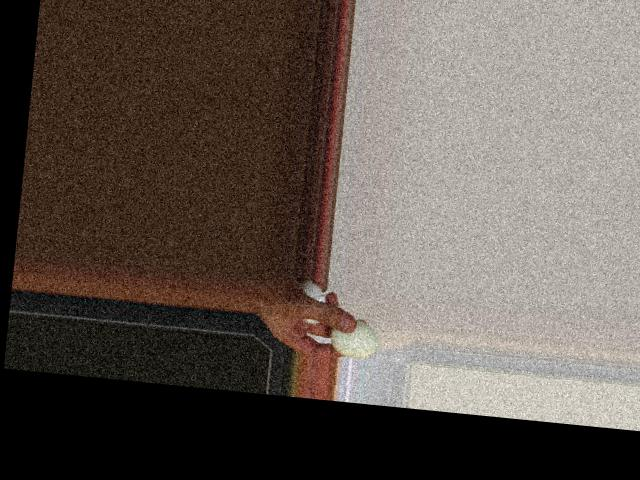egg: (329, 316, 380, 360)
